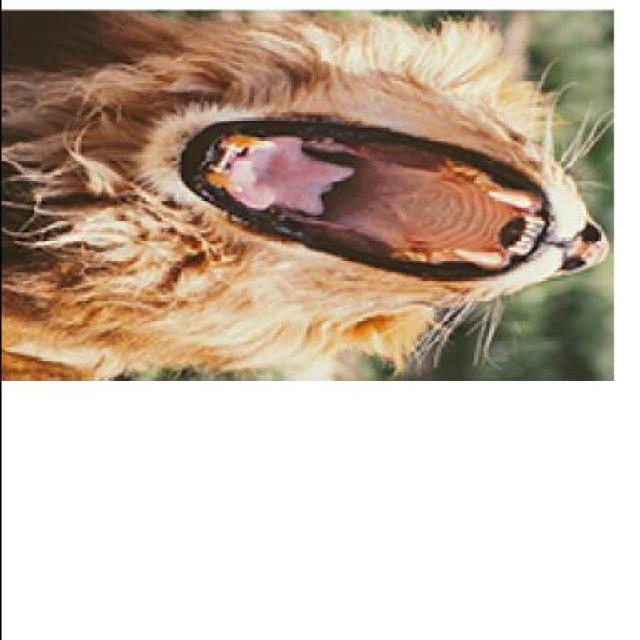Lion: (3, 8, 615, 400)
